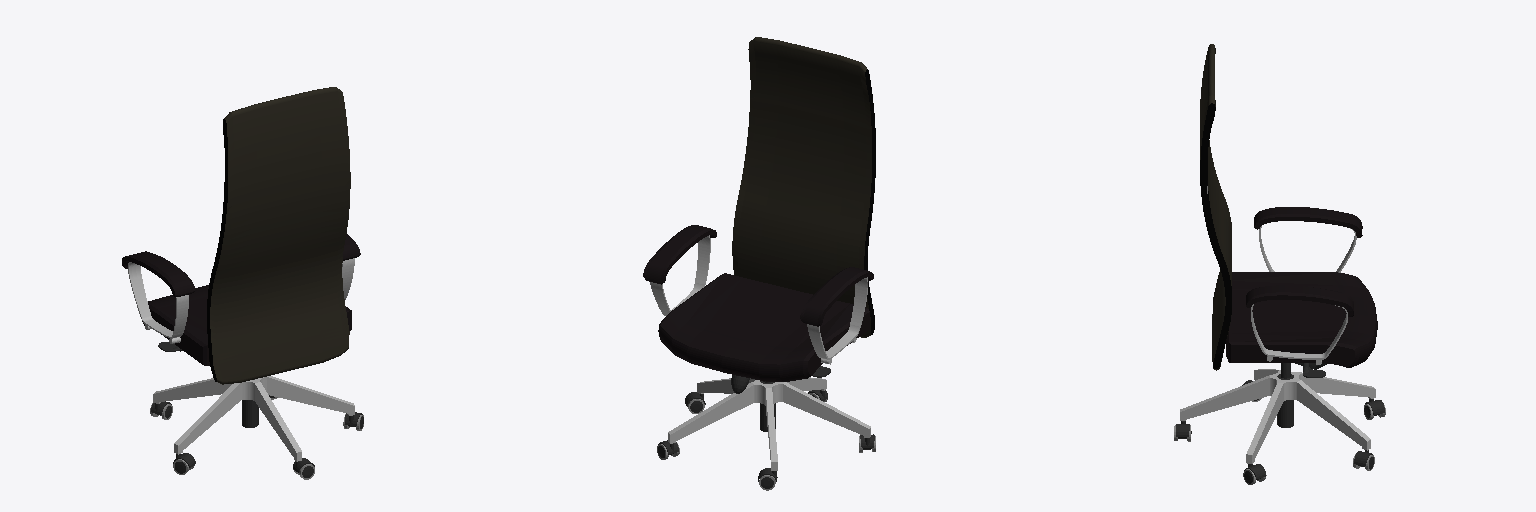
3 renders of one model, left to right at view 1: azimuth 30°, elevation 25°; view 2: azimuth 150°, elevation 25°; view 3: azimuth 270°, elevation 25°, orthographic.
Visible parts, largest first — view 1: Mesh1 Group1 Model, Mesh3 Group3 Model, Mesh6 Group6 Model, Mesh12 Group10 Armrest2 Model, Mesh13 Group11 Armrest2 Model; view 2: Mesh1 Group1 Model, Mesh6 Group6 Model, Mesh3 Group3 Model, Mesh9 Group9 Armrest1 Model, Mesh13 Group11 Armrest2 Model, Mesh12 Group10 Armrest2 Model, Mesh8 Group8 Armrest1 Model; view 3: Mesh6 Group6 Model, Mesh3 Group3 Model, Mesh1 Group1 Model, Mesh9 Group9 Armrest1 Model, Mesh13 Group11 Armrest2 Model, Mesh8 Group8 Armrest1 Model, Mesh2 Group2 Model.
Boxes of the visible parts, x1,y1,x2,y2 form: Mesh1 Group1 Model: [207, 87, 350, 384]; Mesh3 Group3 Model: [153, 376, 354, 461]; Mesh6 Group6 Model: [142, 285, 351, 365]; Mesh12 Group10 Armrest2 Model: [128, 262, 188, 338]; Mesh13 Group11 Armrest2 Model: [122, 251, 194, 296]; Mesh1 Group1 Model: [732, 37, 875, 337]; Mesh6 Group6 Model: [658, 273, 869, 381]; Mesh3 Group3 Model: [668, 377, 870, 470]; Mesh9 Group9 Armrest1 Model: [643, 225, 716, 284]; Mesh13 Group11 Armrest2 Model: [800, 267, 873, 326]; Mesh12 Group10 Armrest2 Model: [807, 277, 867, 359]; Mesh8 Group8 Armrest1 Model: [650, 235, 710, 315]; Mesh6 Group6 Model: [1226, 272, 1377, 367]; Mesh3 Group3 Model: [1180, 369, 1375, 463]; Mesh1 Group1 Model: [1200, 44, 1231, 370]; Mesh9 Group9 Armrest1 Model: [1246, 285, 1353, 316]; Mesh13 Group11 Armrest2 Model: [1254, 207, 1362, 237]; Mesh8 Group8 Armrest1 Model: [1251, 304, 1347, 359]; Mesh2 Group2 Model: [1277, 363, 1293, 427].
Bounding box in the file's own units: 0.4543 × 0.8408 × 0.4365.